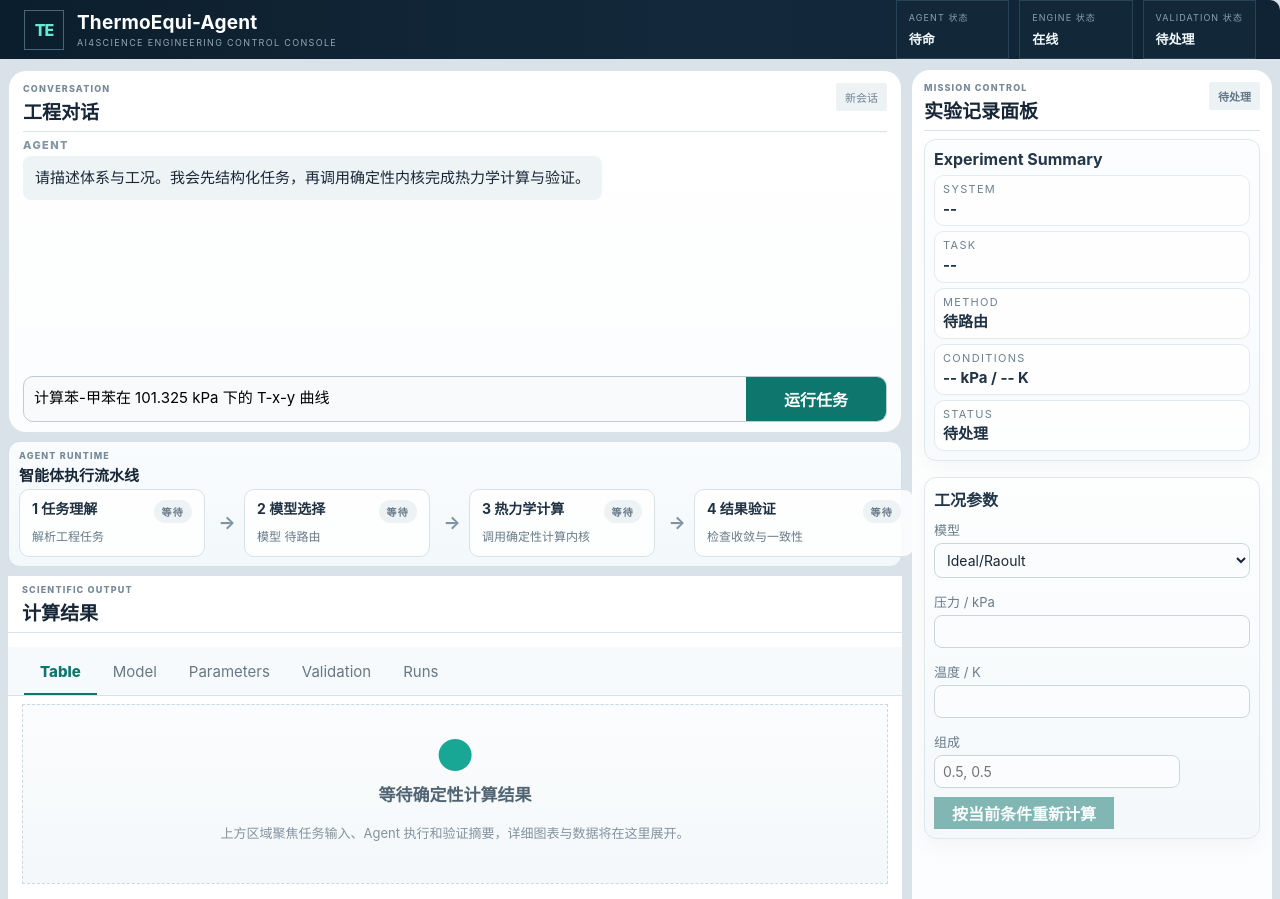
Workbench › loads the engineering workbench and accepts a conversation task
The image size is (1280, 899).
Expected: the heading "工程对话" is shown, [23, 97, 110, 124]
Step 1. Click the button "运行任务" → (816, 399), box [746, 377, 886, 421]
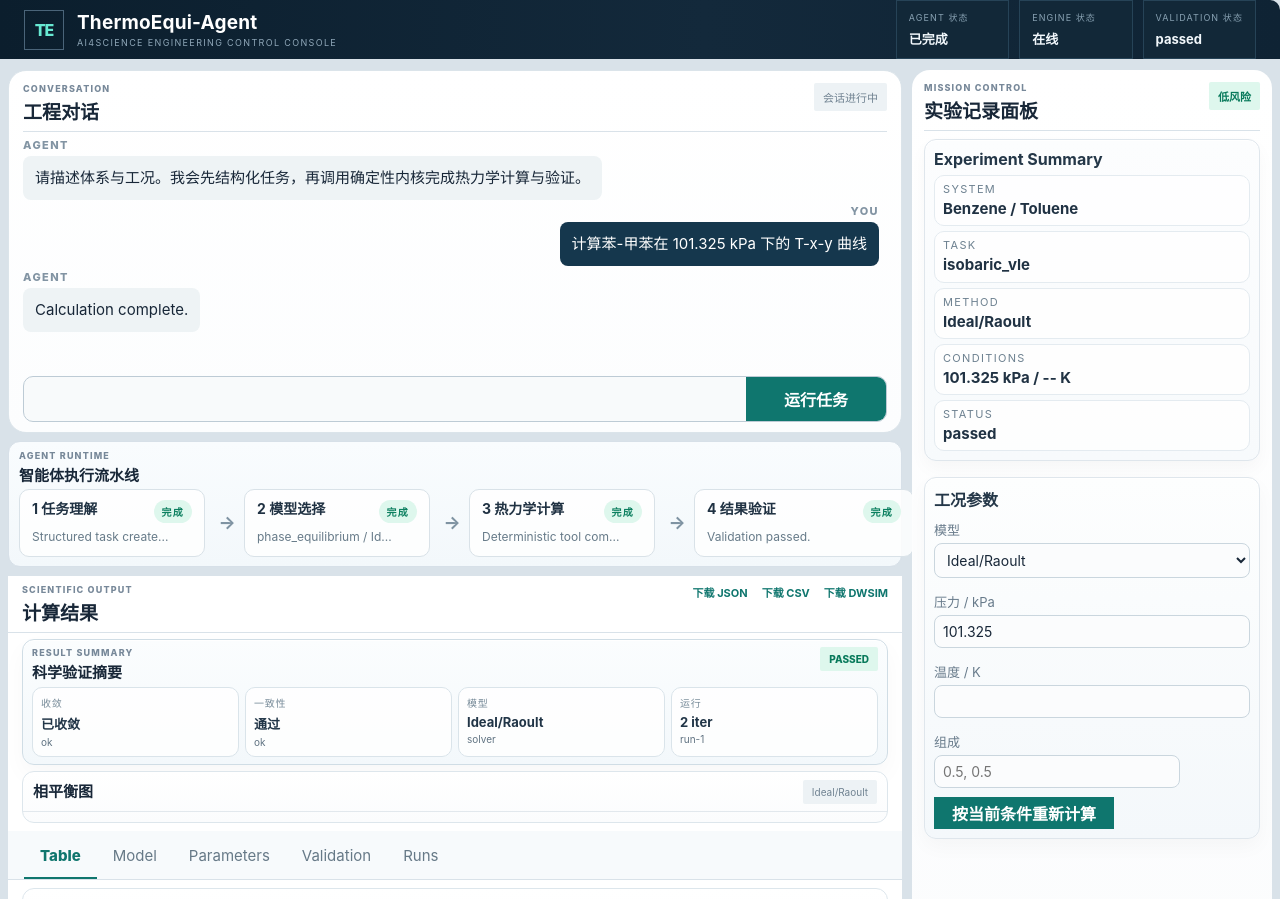
Expected: the element with test id "vle-chart" is shown, [23, 812, 887, 822]
Expected: the text "Calculation complete." is shown, [35, 298, 188, 322]
Expected: the text "Benzene / Toluene" is shown, [943, 199, 1078, 218]
